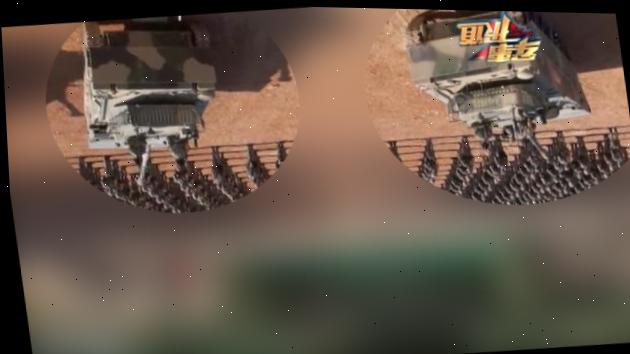tank: (395, 9, 604, 175), (65, 10, 234, 198)
